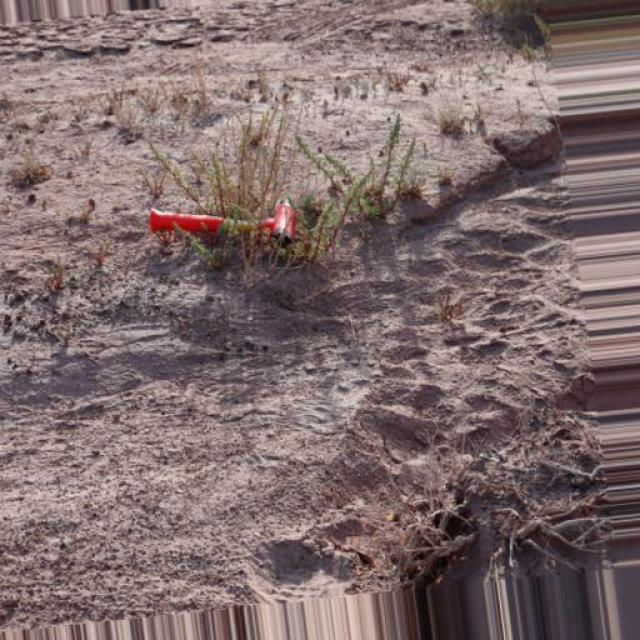mallet: (149, 198, 299, 248)
